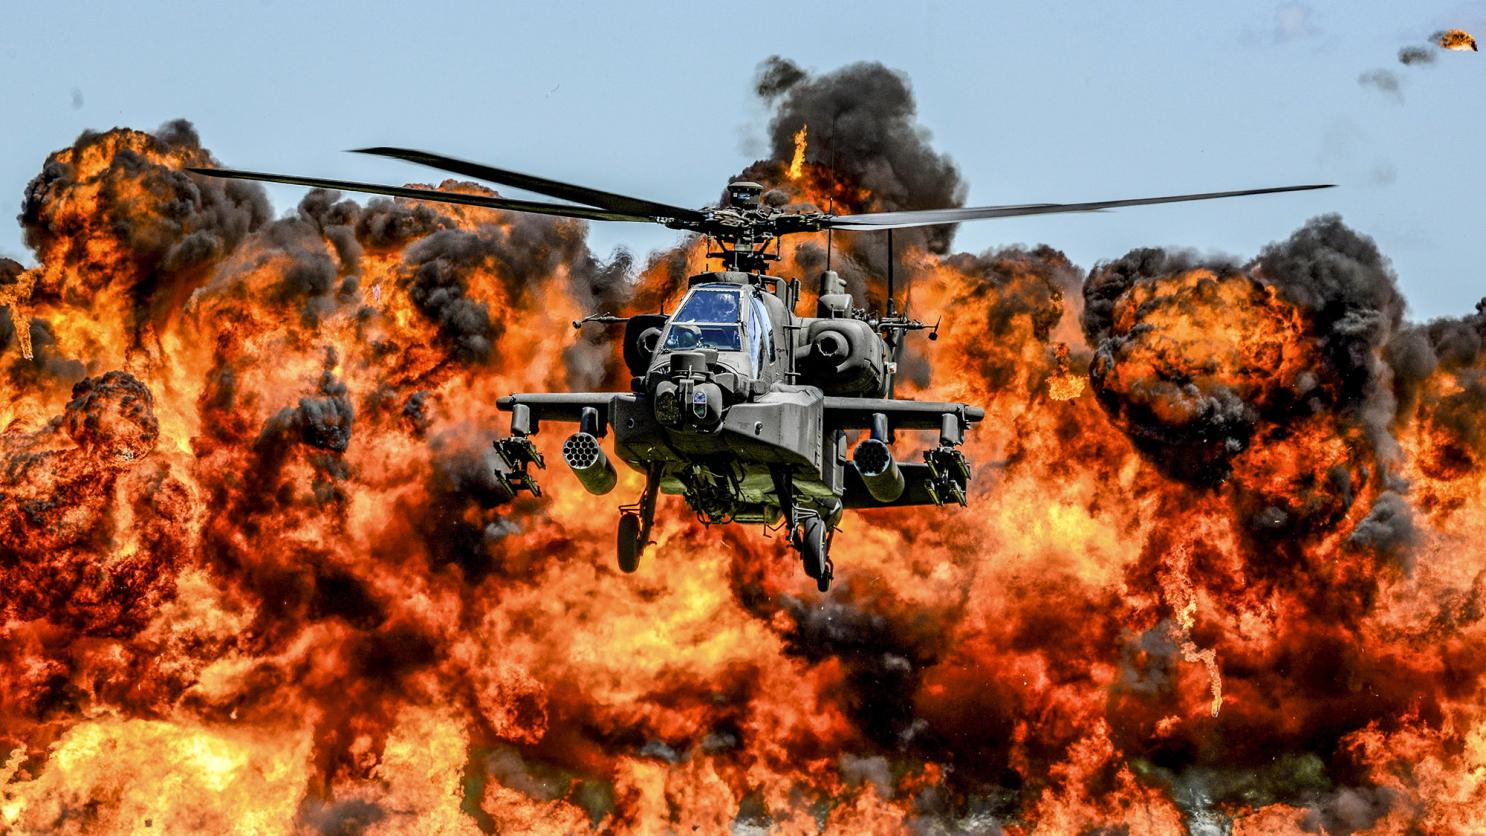MilitaryHelicopter: (499, 197, 1003, 574)
